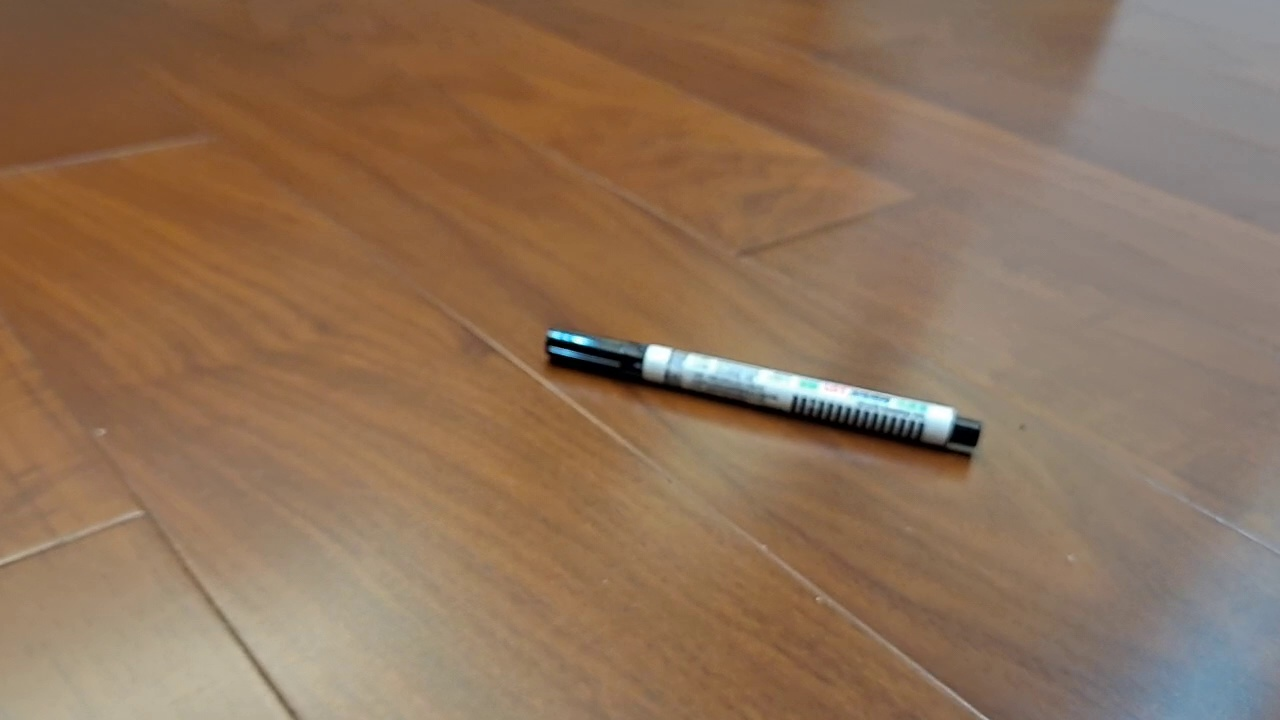pen: (543, 327, 983, 449)
